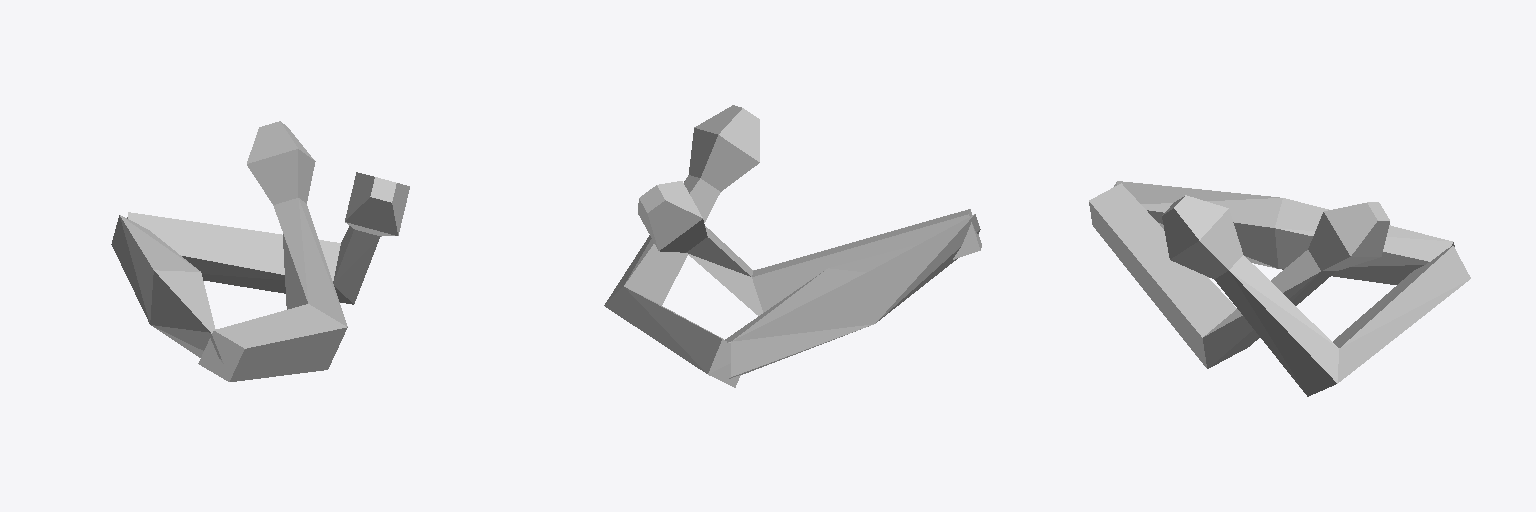
Rendered from handsBlock_000029.obj.
3 views of the same model, side by side, from view 1: azimuth 30°, elevation 25°; view 2: azimuth 150°, elevation 25°; view 3: azimuth 270°, elevation 25° (orthographic).
Visible parts, largest first — view 1: Cube; view 2: Cube; view 3: Cube.
Part boxes in pixels (x1,y1,x2,y2): Cube: (111,121,409,381); Cube: (604,105,981,387); Cube: (1089,181,1470,396).
Size of the model in its own units: 4.14 by 2.81 by 5.07.